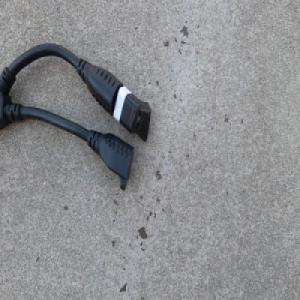Wire: (0, 42, 151, 193)
